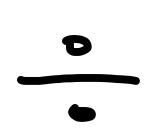minus: (17, 35, 140, 122)
